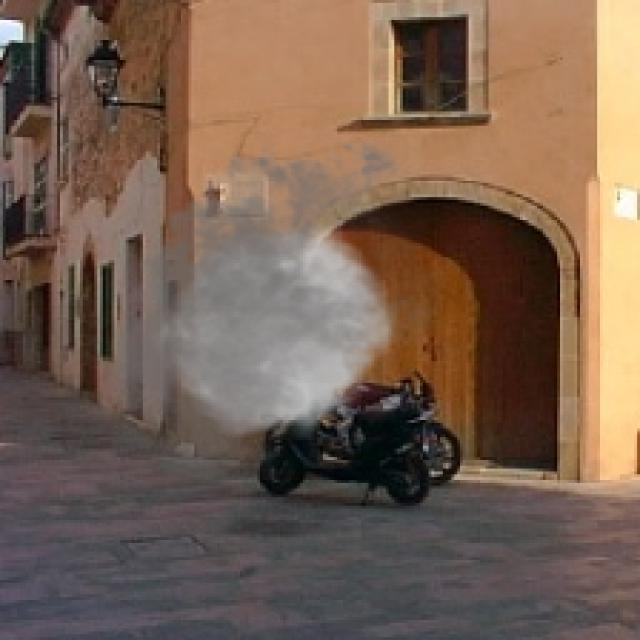smoke: (91, 128, 460, 488)
